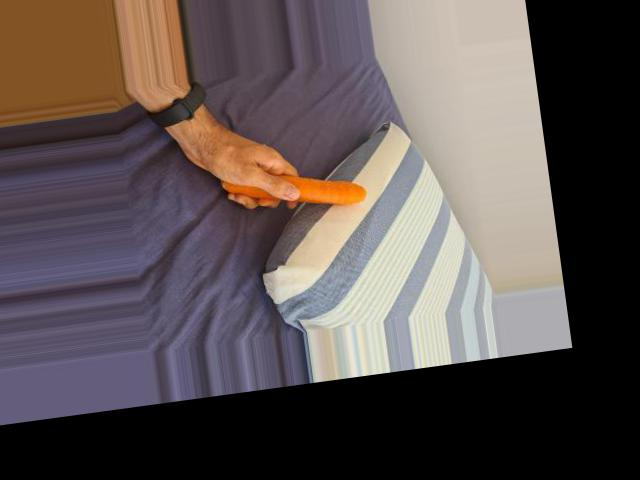carrot: (217, 154, 368, 223)
